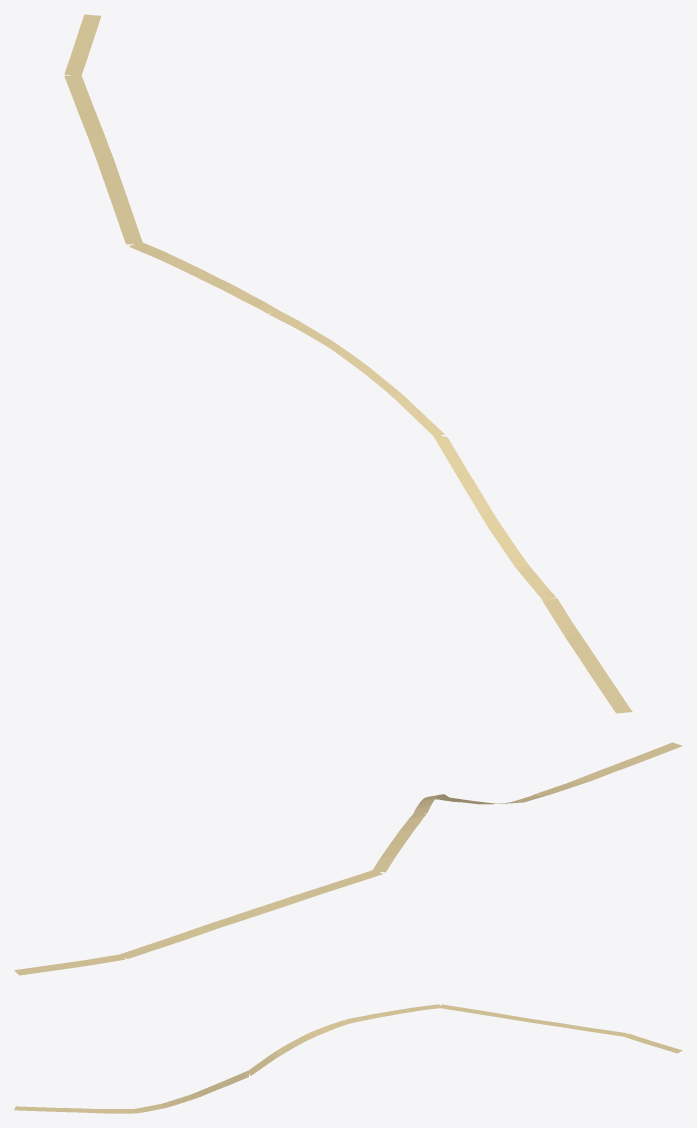
The model's file is Trail_24.glb.
3 renders of one model, top to bottom at view 1: azimuth 30°, elevation 25°; view 2: azimuth 150°, elevation 25°; view 3: azimuth 270°, elevation 25°, orthographic. The views are drawn at different scales.
Visible parts, largest first — view 1: Trail_24; view 2: Trail_24; view 3: Trail_24.
Boxes of the visible parts, left/top/right/bottom form: Trail_24: left=64, top=14, right=632, bottom=713; Trail_24: left=14, top=742, right=682, bottom=975; Trail_24: left=14, top=1004, right=682, bottom=1113.
Size of the model in its own units: 24.57 by 19.82 by 135.
